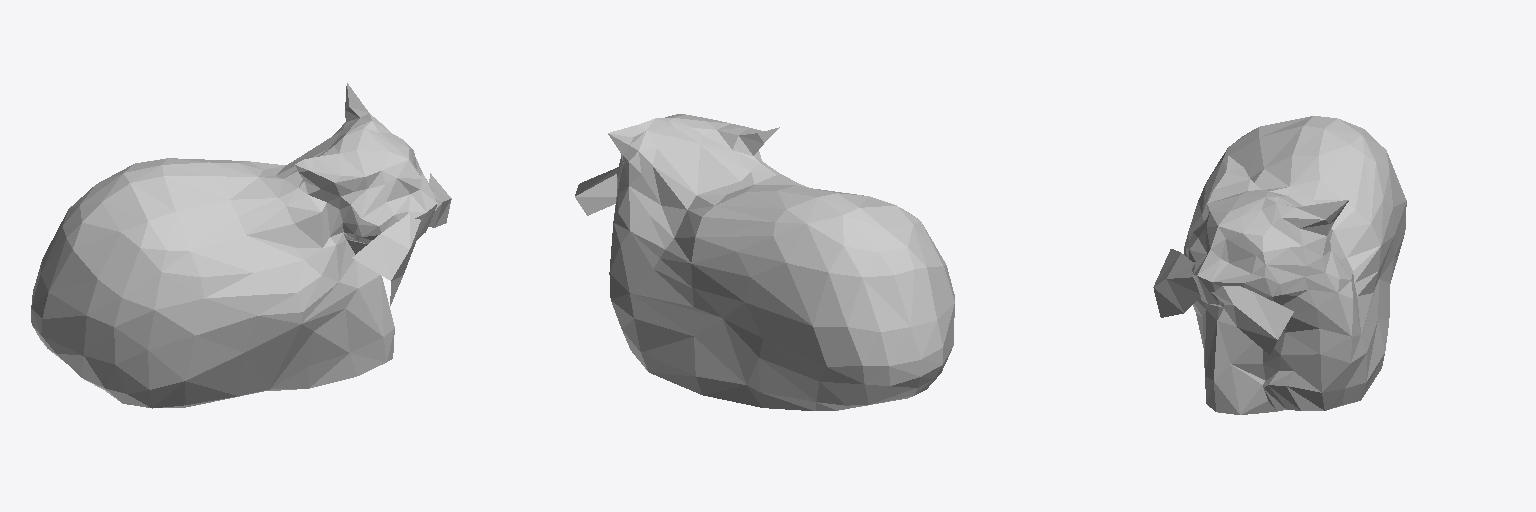
The model's file is maxwell.obj.
3 renders of one model, left to right at view 1: azimuth 30°, elevation 25°; view 2: azimuth 150°, elevation 25°; view 3: azimuth 270°, elevation 25°, orthographic.
Parts seen in each view (by area): view 1: maxwell; view 2: maxwell; view 3: maxwell.
Boxes of the visible parts, box(x1,y1,x2,y2) form: maxwell: box(31, 83, 451, 408); maxwell: box(575, 114, 954, 410); maxwell: box(1153, 116, 1406, 414).
Bounding box in the file's own units: 4.67 × 2.7 × 2.64.